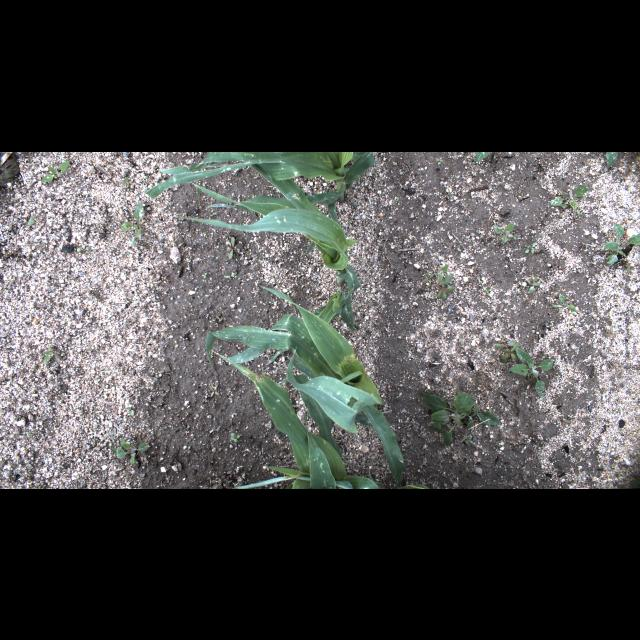crop: (206, 284, 404, 488), (178, 157, 358, 365), (144, 152, 378, 255), (212, 350, 380, 488)
weed: (422, 390, 500, 446), (509, 347, 553, 397), (603, 222, 639, 264), (120, 200, 144, 248), (550, 186, 590, 210), (116, 437, 150, 465), (0, 153, 20, 187), (41, 159, 69, 181), (496, 336, 520, 360), (494, 220, 518, 242), (552, 292, 578, 312), (432, 280, 456, 300), (42, 346, 62, 362), (438, 262, 454, 282), (226, 236, 237, 258), (526, 276, 540, 292), (606, 151, 618, 167), (474, 151, 490, 161), (525, 242, 537, 254), (209, 384, 219, 398), (421, 272, 435, 282), (482, 286, 492, 298), (230, 433, 240, 443), (560, 416, 570, 426), (76, 246, 92, 252), (224, 271, 238, 277), (465, 434, 473, 444), (126, 407, 134, 415), (435, 157, 443, 161), (203, 272, 207, 278)
